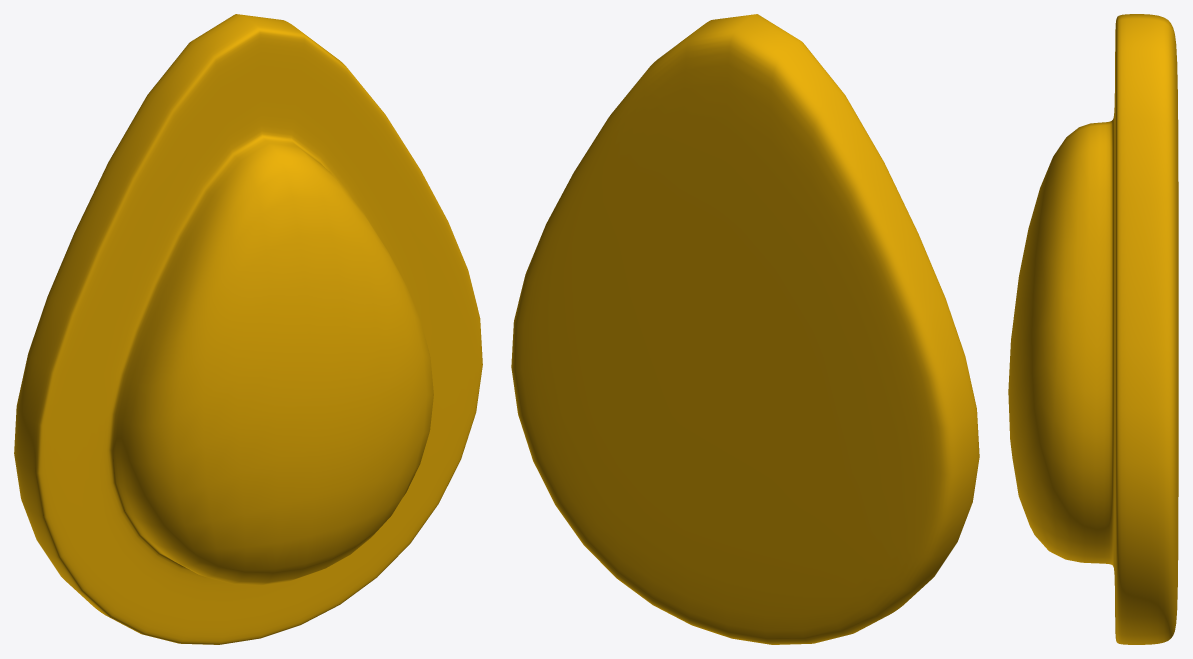
Rendered from sariseker.fbx.
3 views of the same model, side by side, from view 1: azimuth 30°, elevation 25°; view 2: azimuth 150°, elevation 25°; view 3: azimuth 270°, elevation 25° (orthographic).
Visible parts, largest first — view 1: sariseker; view 2: sariseker; view 3: sariseker.
Part boxes in pixels (left/top/right/bottom): sariseker: left=14, top=14, right=482, bottom=644; sariseker: left=511, top=14, right=979, bottom=644; sariseker: left=1008, top=14, right=1178, bottom=644.
Size of the model in its own units: 54.21 by 70.83 by 18.18.
